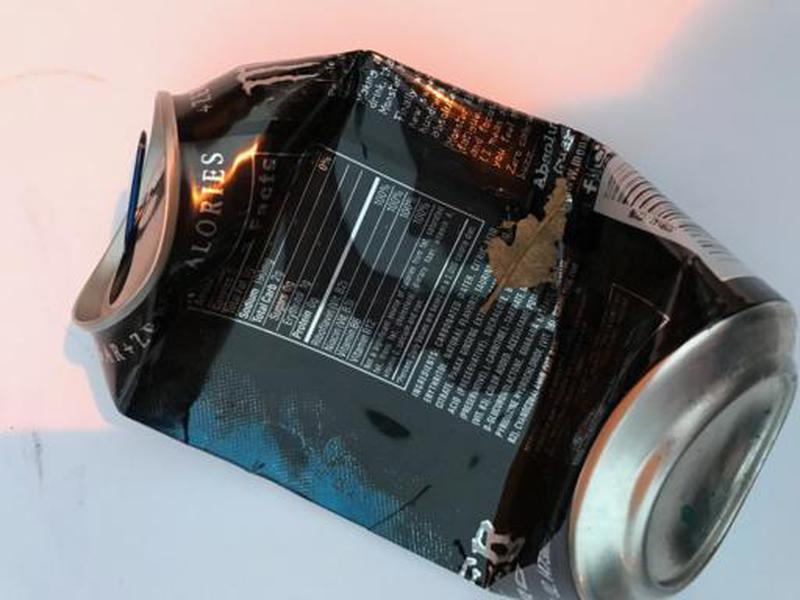can: (60, 46, 800, 600)
